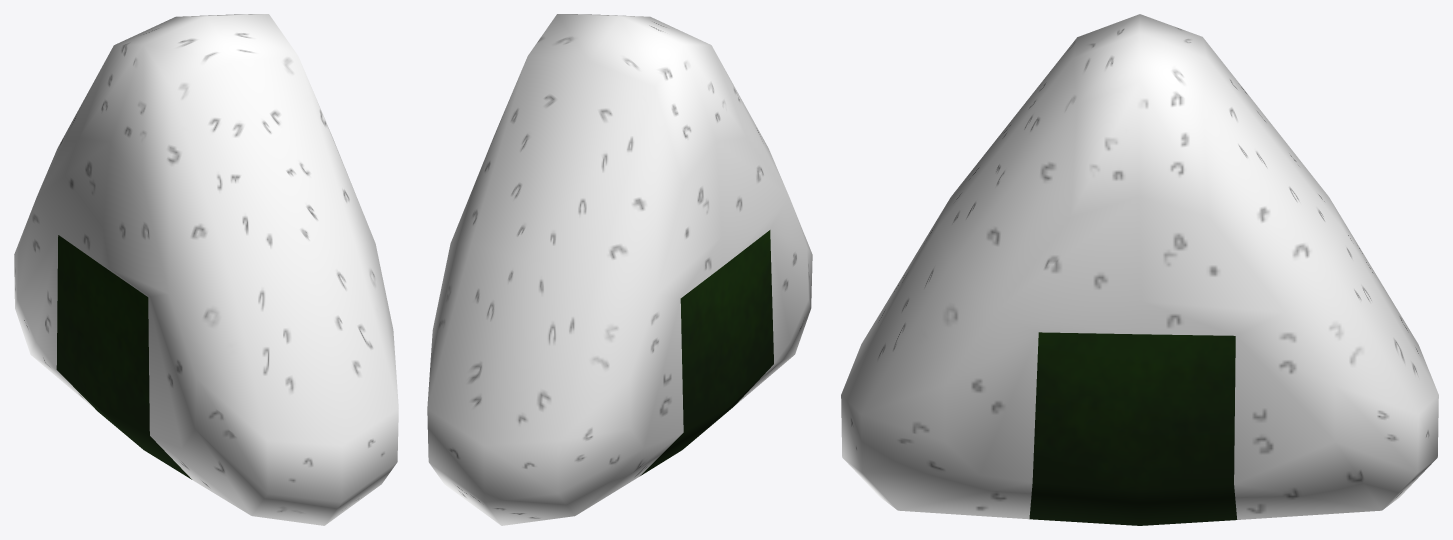
File: onigiri_mod.fbx
The picture shows the model from 3 angles, left to right: view 1: azimuth 30°, elevation 25°; view 2: azimuth 150°, elevation 25°; view 3: azimuth 270°, elevation 25°; orthographic projection. The views are drawn at different scales.
Visible parts, largest first — view 1: onigiri; view 2: onigiri; view 3: onigiri.
Part boxes in pixels (x1,y1,x2,y2): onigiri: [14, 14, 398, 525]; onigiri: [427, 14, 812, 525]; onigiri: [841, 14, 1438, 525].
Size of the model in its own units: 16.24 by 31.18 by 34.89.
